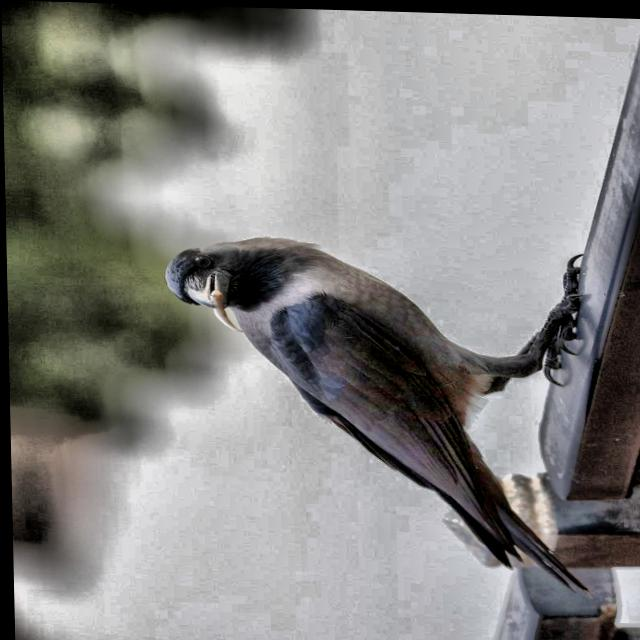crow: (145, 206, 640, 628)
